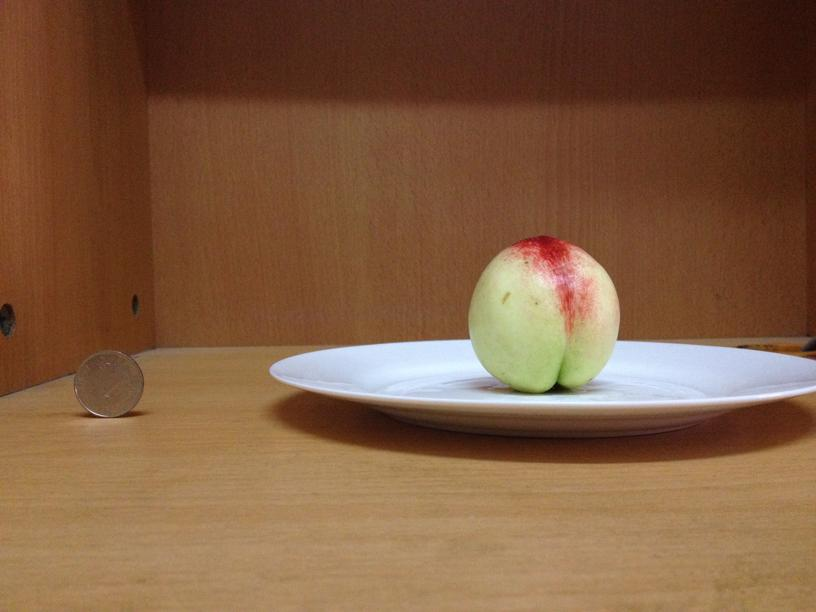coin: (72, 349, 142, 418)
peach: (465, 233, 620, 389)
